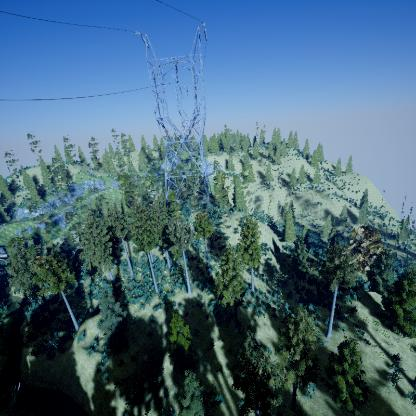tower: (128, 21, 213, 215)
